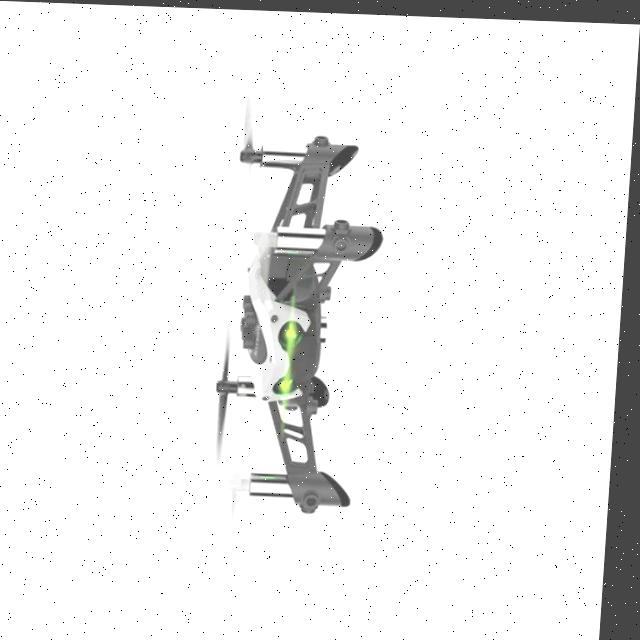drone: (177, 59, 399, 573)
